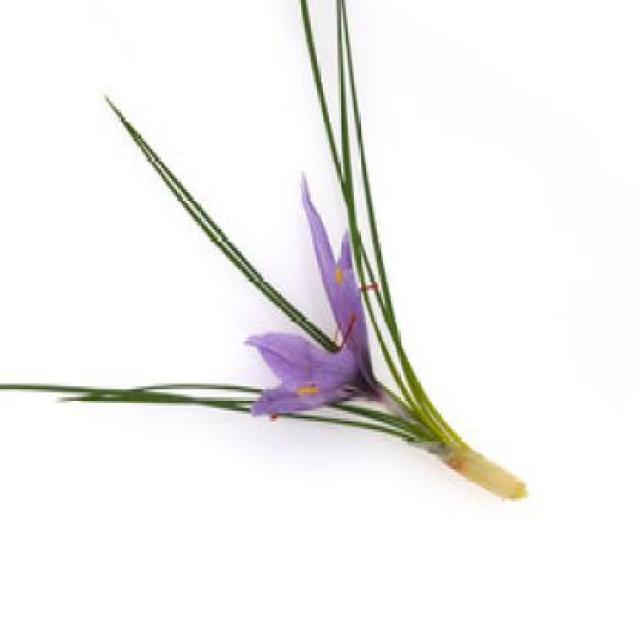Flower: (240, 172, 383, 428)
stigma: (334, 311, 358, 353)
